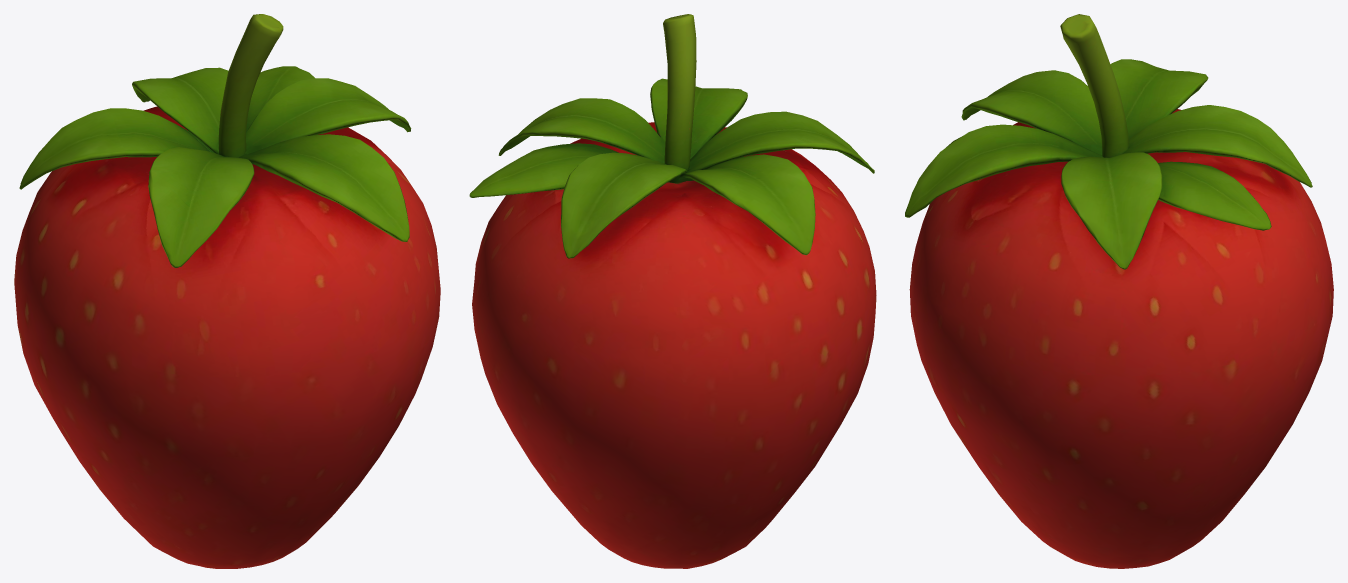
File: strawberry.glb
3 views of the same model, side by side, from view 1: azimuth 30°, elevation 25°; view 2: azimuth 150°, elevation 25°; view 3: azimuth 270°, elevation 25° (orthographic). The views are drawn at different scales.
Parts seen in each view (by area): view 1: Crimson Seedburst Strawberry; view 2: Crimson Seedburst Strawberry; view 3: Crimson Seedburst Strawberry.
Boxes of the visible parts, x1,y1,x2,y2 form: Crimson Seedburst Strawberry: (14,14,440,568); Crimson Seedburst Strawberry: (469,14,876,568); Crimson Seedburst Strawberry: (905,14,1333,568).
Size of the model in its own units: 0.6973 by 0.998 by 0.7129.
1 material, 1 textured.
